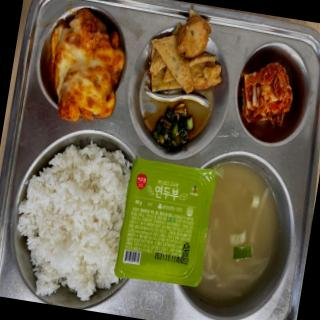Nasi: (8, 132, 138, 308)
